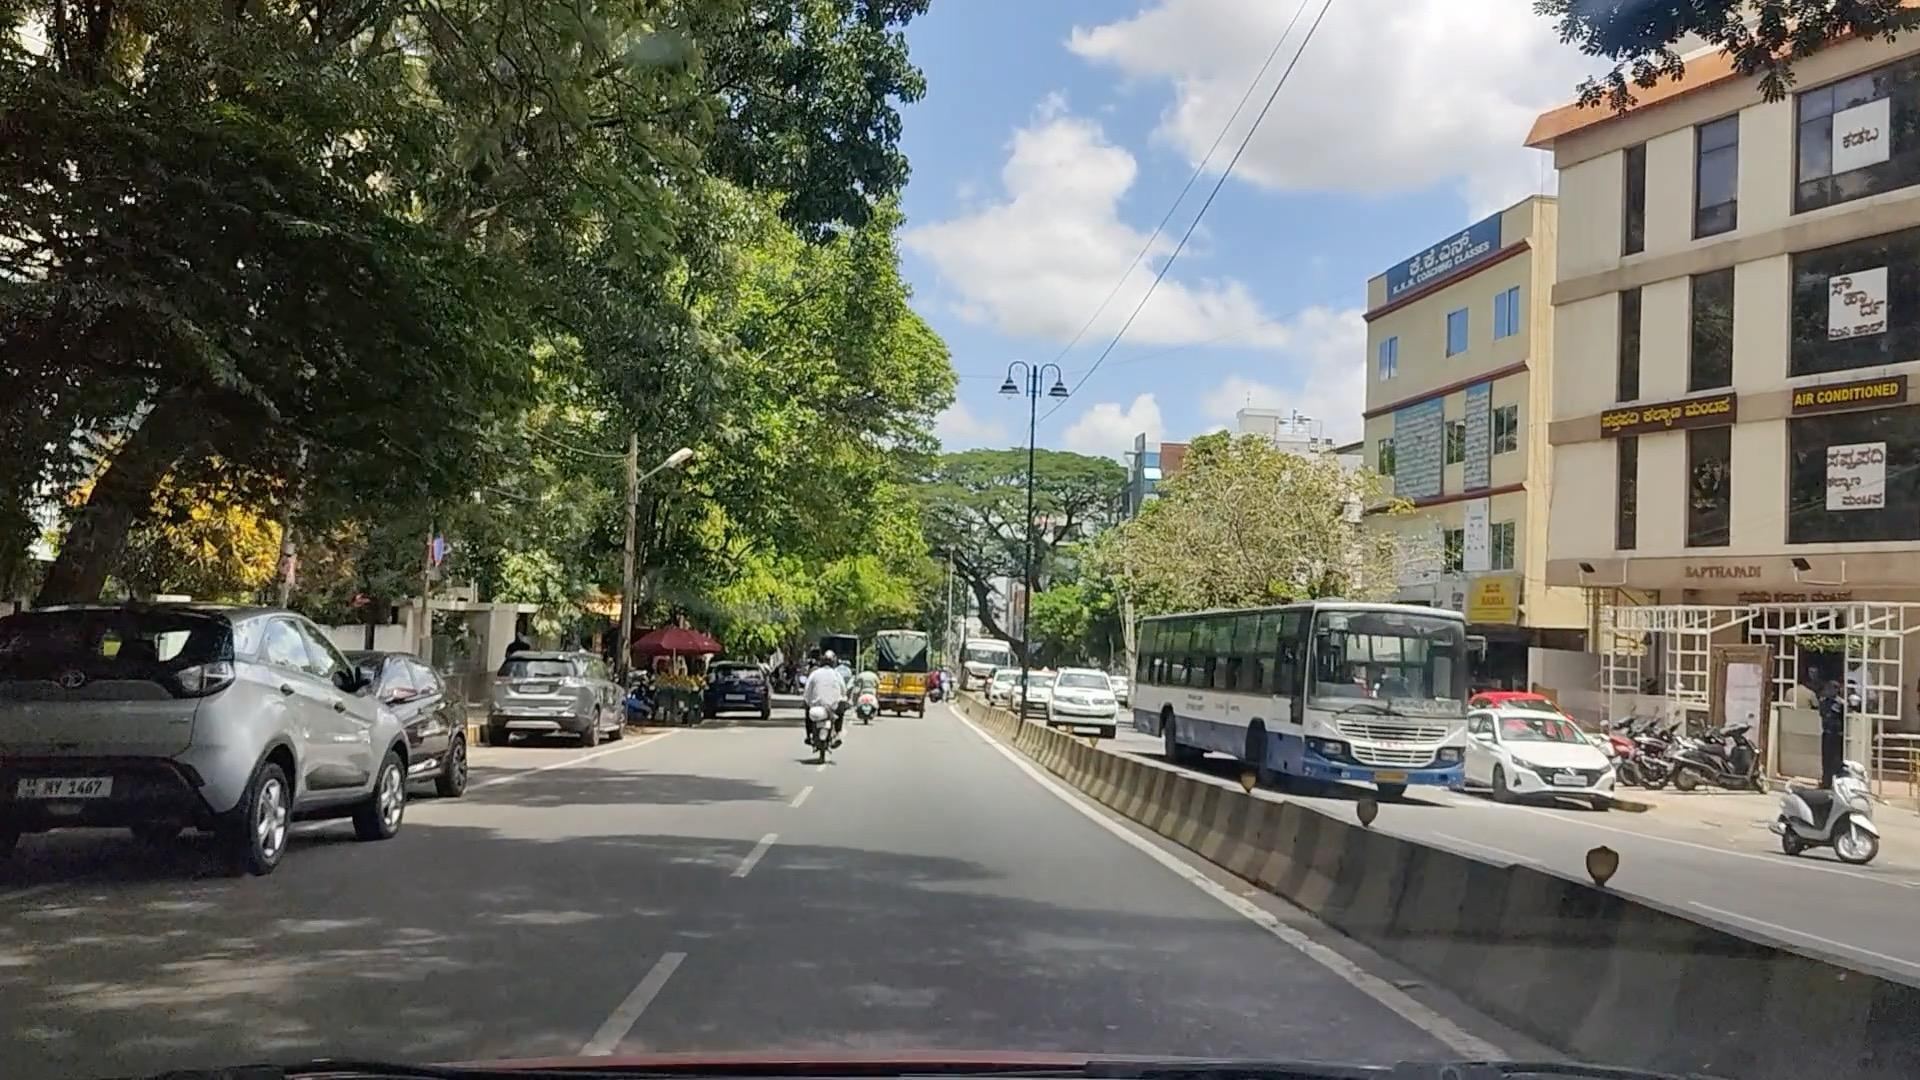LMV: (0, 596, 410, 870), (814, 640, 860, 811)
